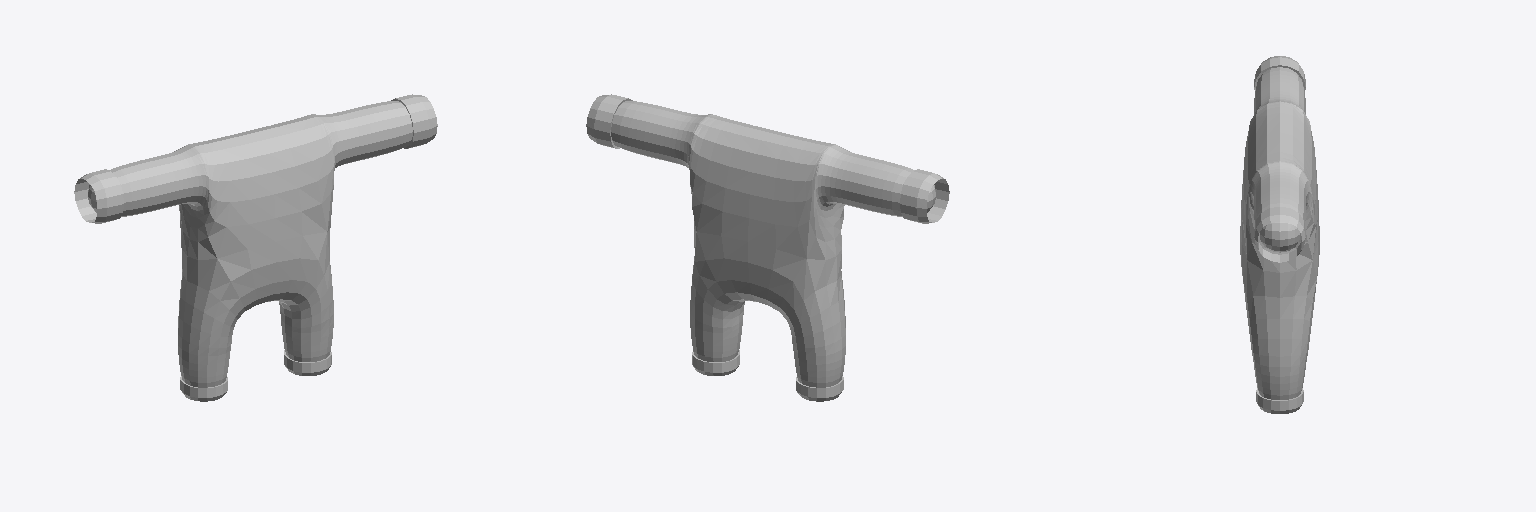
The model's file is Thejanitor.obj.
3 renders of one model, left to right at view 1: azimuth 30°, elevation 25°; view 2: azimuth 150°, elevation 25°; view 3: azimuth 270°, elevation 25°, orthographic.
Visible parts, largest first — view 1: Cube; view 2: Cube; view 3: Cube.
Part boxes in pixels (left/top/right/bottom): Cube: left=74, top=94, right=437, bottom=401; Cube: left=586, top=94, right=949, bottom=401; Cube: left=1240, top=56, right=1319, bottom=413.
Bounding box in the file's own units: 626 × 437 × 127.